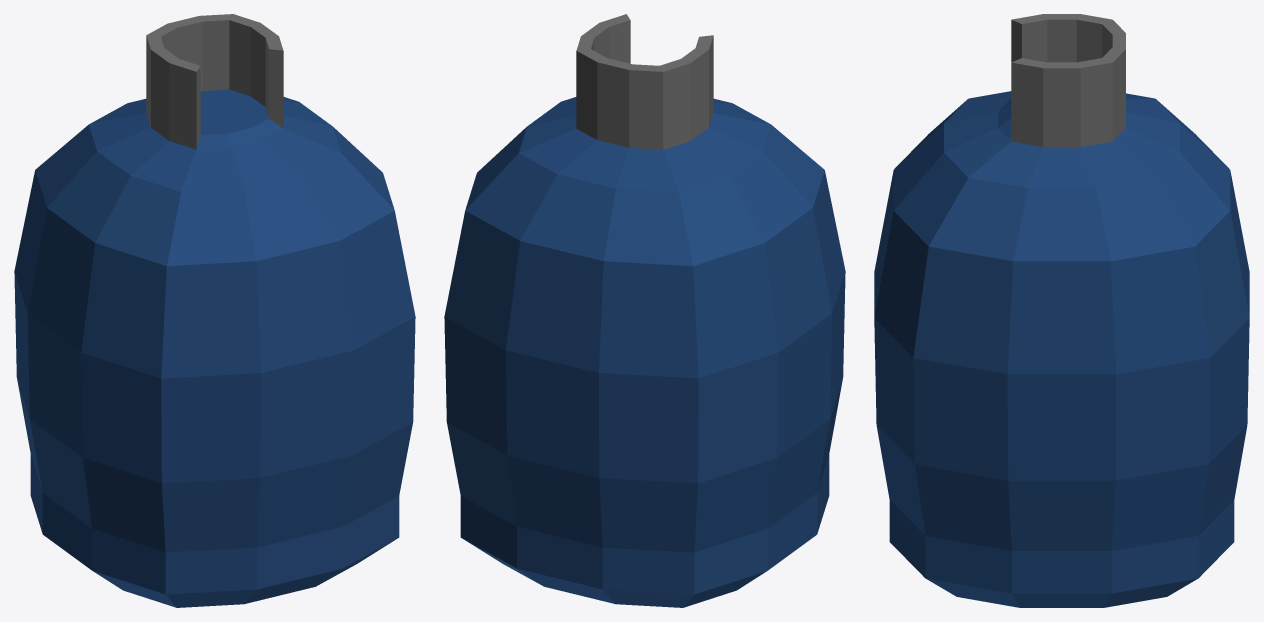
3 renders of one model, left to right at view 1: azimuth 30°, elevation 25°; view 2: azimuth 150°, elevation 25°; view 3: azimuth 270°, elevation 25°, orthographic.
Visible parts, largest first — view 1: G-23; view 2: G-23; view 3: G-23.
Boxes of the visible parts, <box> form: G-23: <box>14,14,415,607</box>; G-23: <box>444,14,845,607</box>; G-23: <box>874,14,1249,607</box>.
Bounding box in the file's own units: 119 × 178 × 119.
